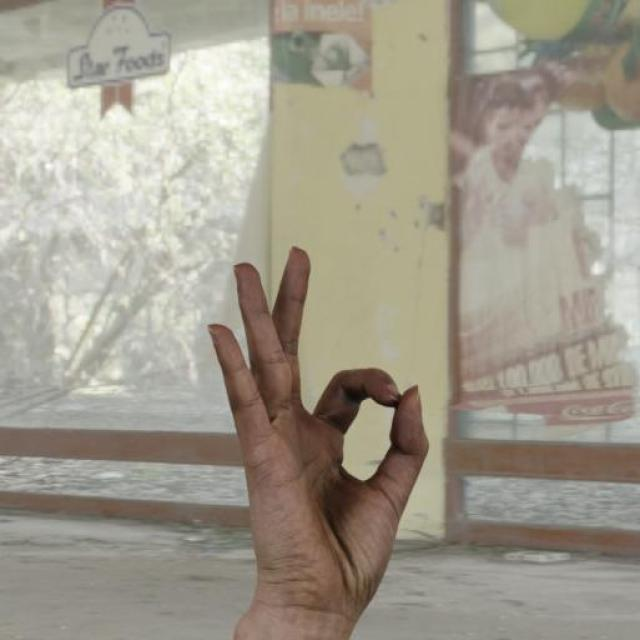F: (203, 241, 433, 621)
